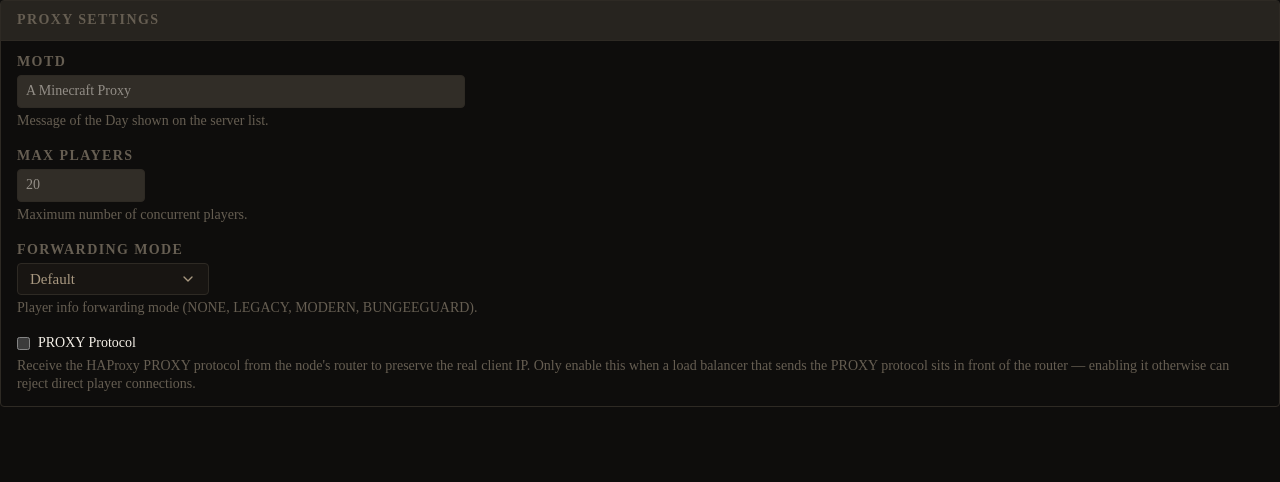
ProxySettingsSection › shows forwarding warnings after save
Type "x" into the field with placeholder "A Minecraft Proxy" at {"x": 241, "y": 92}, box [17, 75, 465, 108]
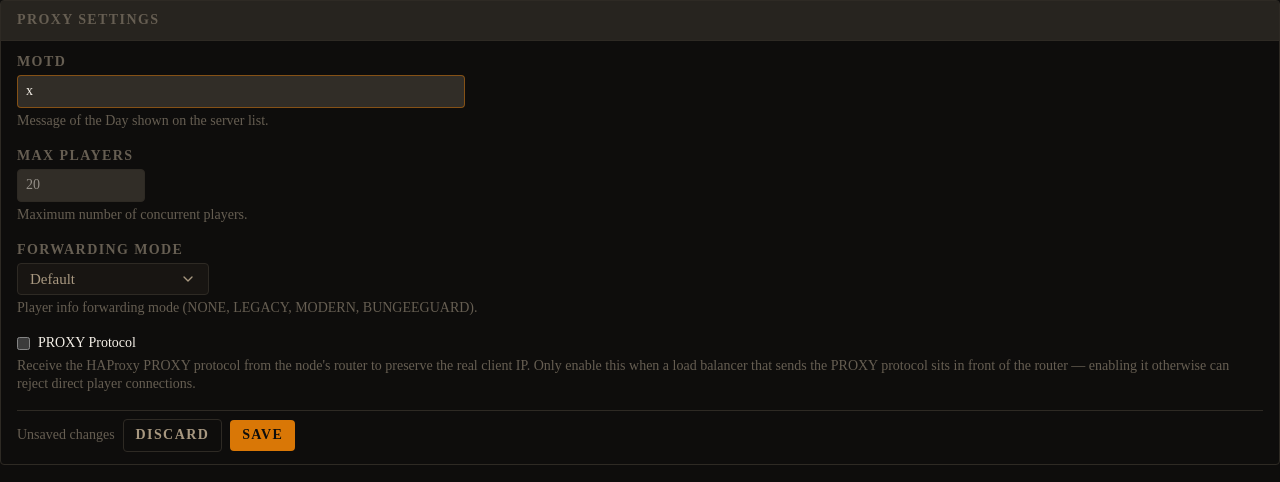
Click the button "Save" at {"x": 263, "y": 435}, box [230, 420, 295, 451]
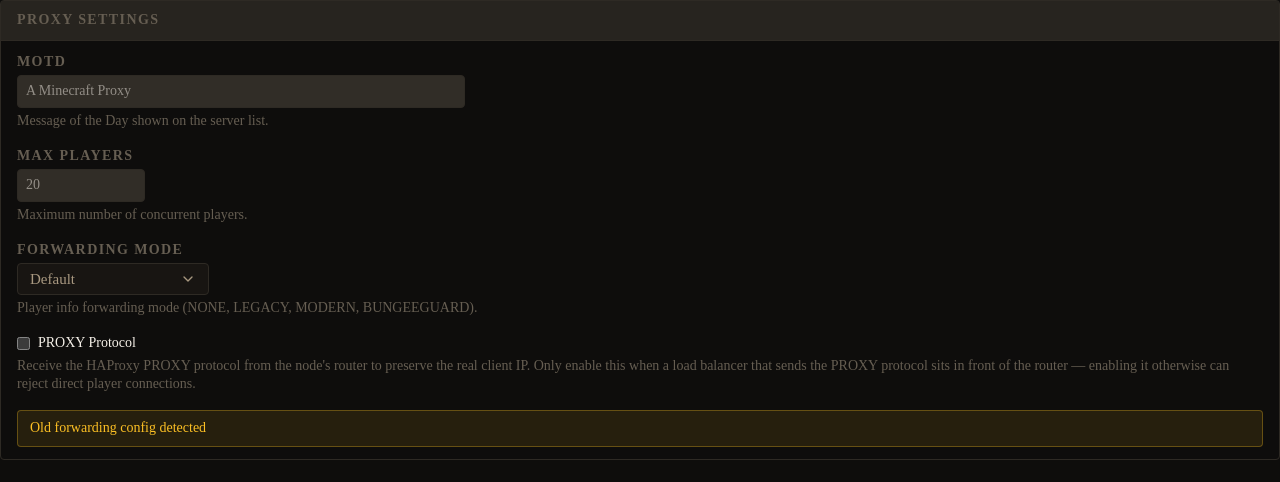
Now the text "Old forwarding config detected" is shown, box [30, 420, 206, 435]
